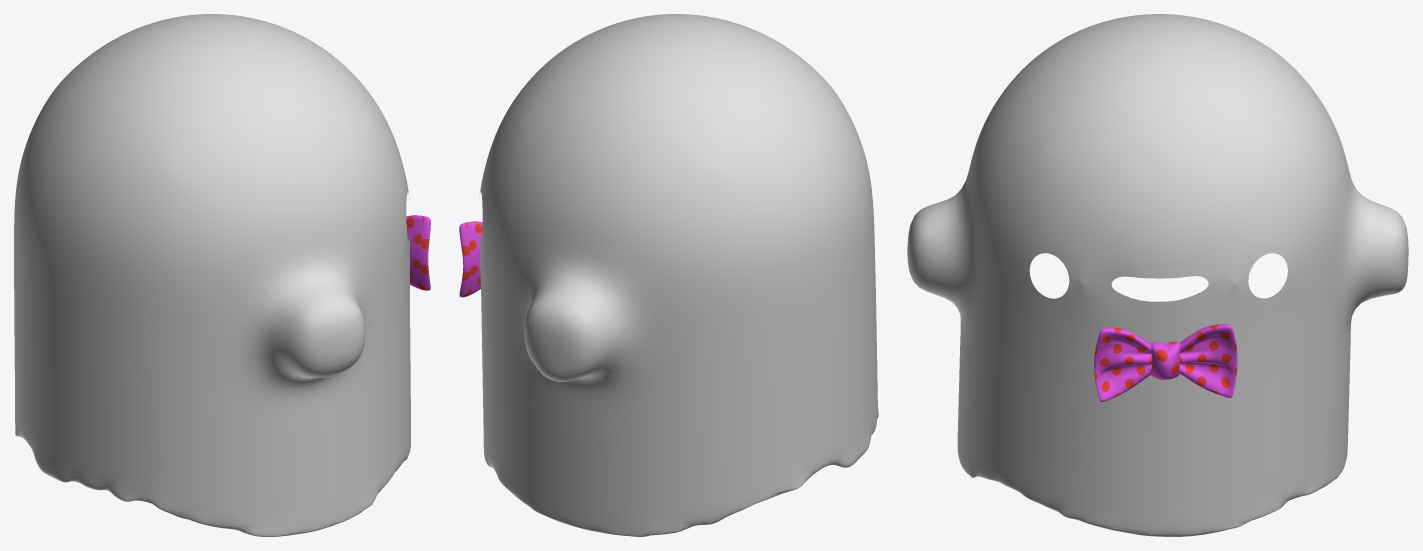
Rendered from ghostbody_mainchar.glb.
The picture shows the model from 3 angles, left to right: view 1: azimuth 30°, elevation 25°; view 2: azimuth 150°, elevation 25°; view 3: azimuth 270°, elevation 25°; orthographic projection.
Parts seen in each view (by area): view 1: Cube, Cube.001_BowtieMat_0; view 2: Cube, Cube.001_BowtieMat_0; view 3: Cube, Cube.001_BowtieMat_0, Cube_BowtieMat_0.
Boxes of the visible parts, box(x1,y1,x2,y2) form: Cube: box(14, 14, 410, 536); Cube.001_BowtieMat_0: box(406, 215, 430, 290); Cube: box(479, 14, 878, 536); Cube.001_BowtieMat_0: box(459, 221, 482, 297); Cube: box(907, 14, 1408, 536); Cube.001_BowtieMat_0: box(1094, 324, 1237, 401); Cube_BowtieMat_0: box(1150, 341, 1180, 379).
Bounding box in the file's own units: 1.81 × 2.05 × 2.18.
1 material, 1 textured.
